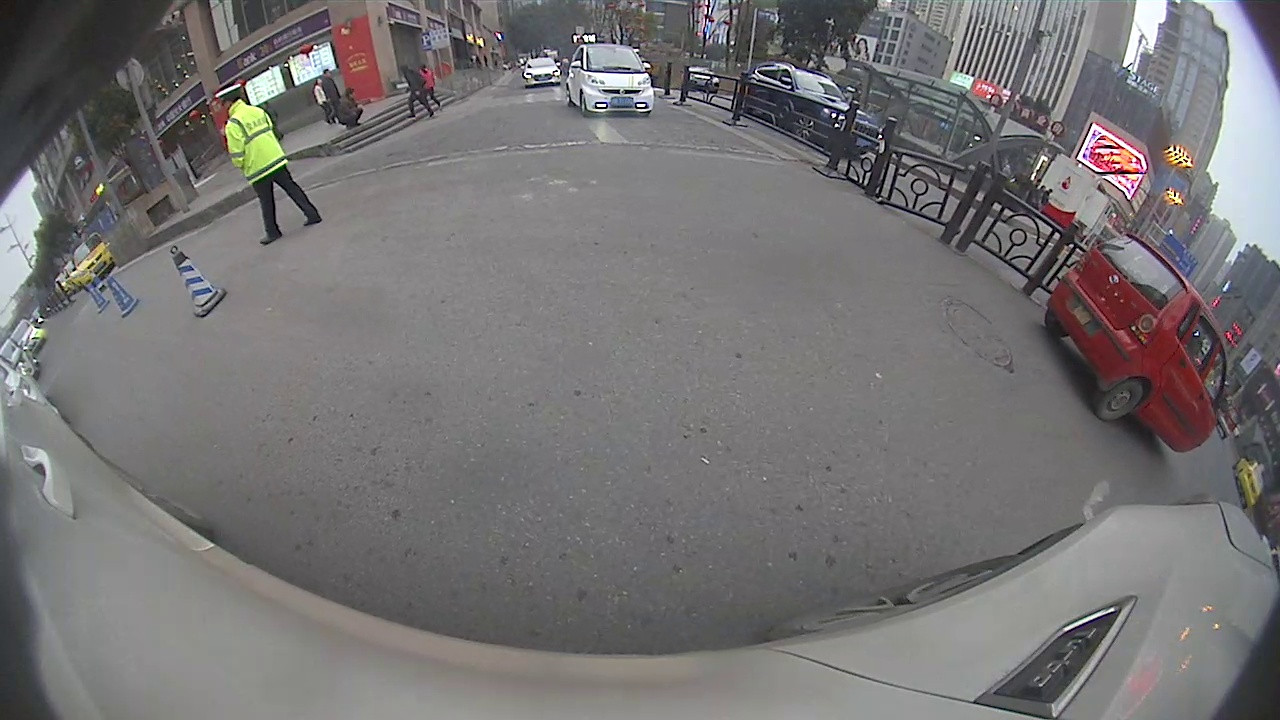car: (1043, 232, 1230, 454), (742, 58, 879, 160), (563, 43, 656, 115)
front: (789, 110, 816, 142), (578, 93, 588, 119)
person: (216, 86, 281, 249), (320, 66, 341, 122), (401, 66, 421, 122), (312, 79, 333, 126), (338, 91, 362, 129)
rear: (1095, 375, 1147, 427)
